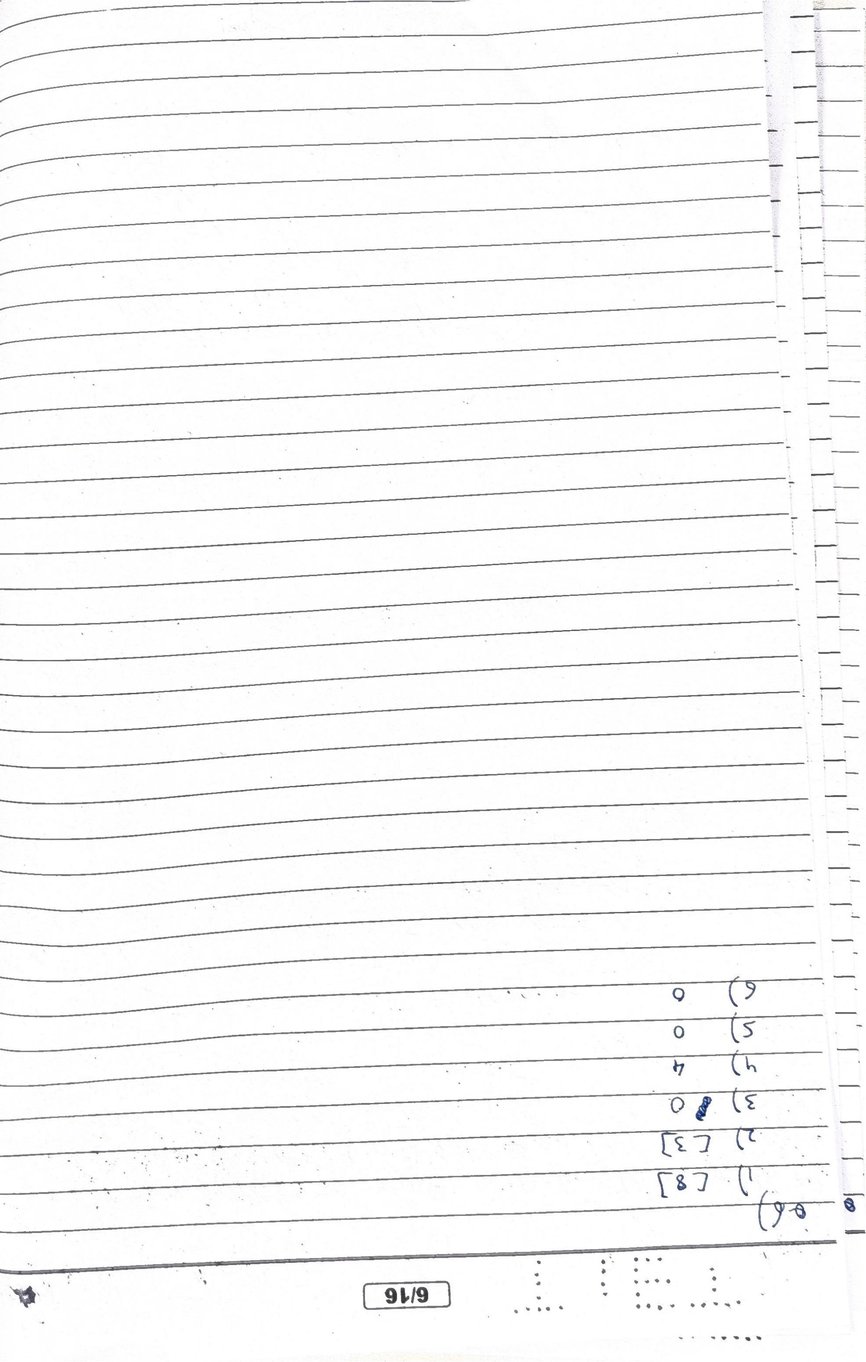cuttings: (695, 1095, 713, 1122), (842, 1195, 858, 1214)
